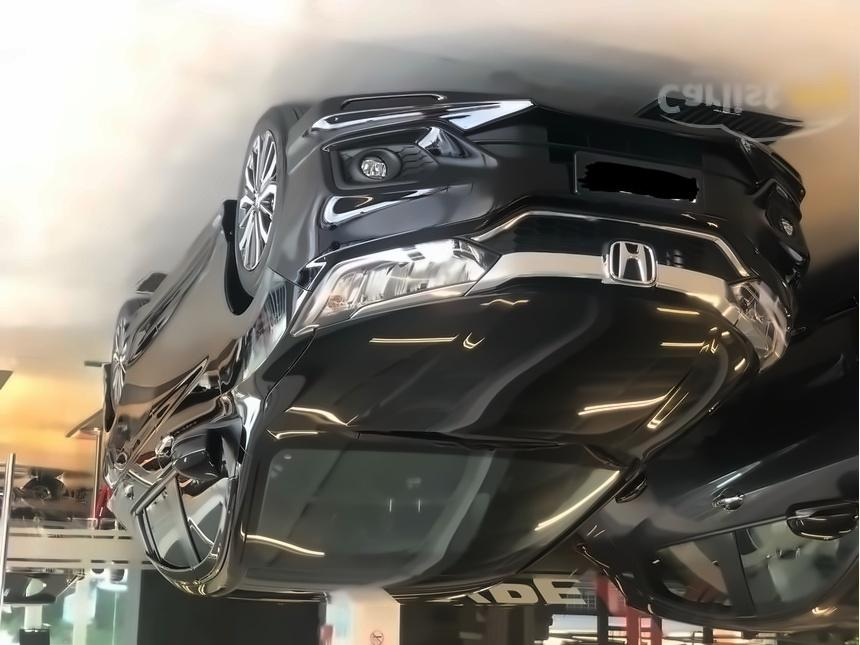Car hood: (256, 270, 758, 473)
Fender - -F-L-: (224, 151, 307, 410)
Front bumper: (274, 80, 824, 292)
Headlight - -L-: (288, 222, 500, 339)
Headlight - -R-: (712, 266, 794, 381)
Passenger-s door - -F-L-: (166, 272, 258, 589)
Passenger-s door - -R-L-: (96, 329, 209, 600)
Side bumper - -L-: (122, 188, 238, 377)
Side mirror - -L-: (156, 410, 231, 477)
